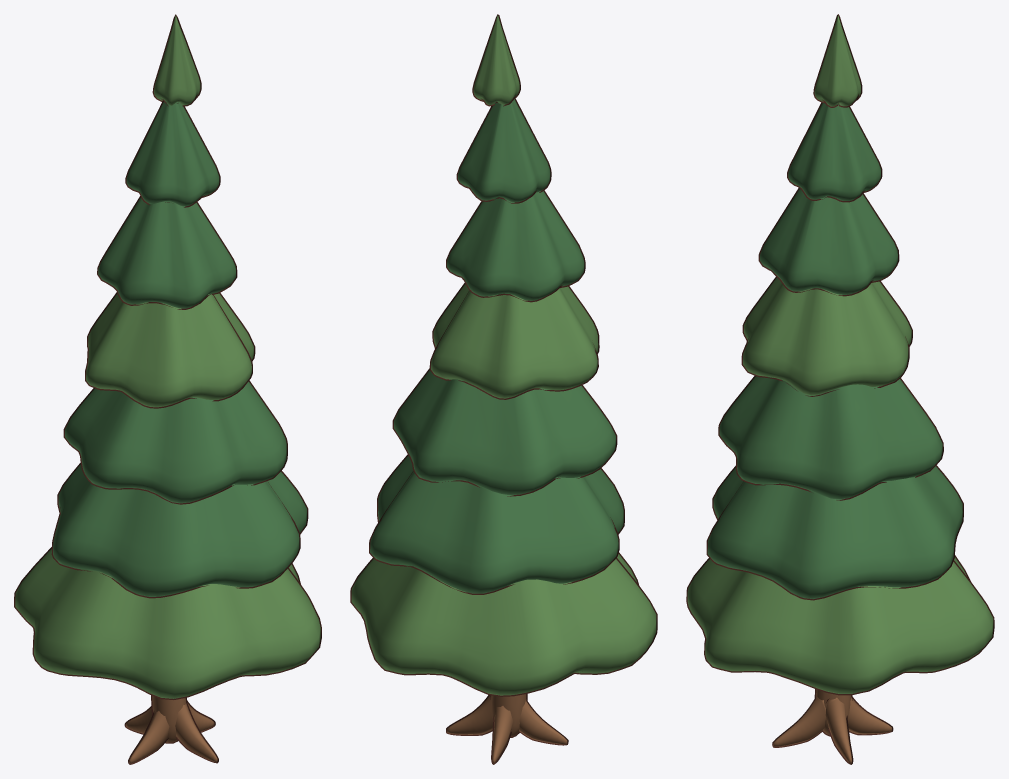
Rendered from fichte.glb.
The picture shows the model from 3 angles, left to right: view 1: azimuth 30°, elevation 25°; view 2: azimuth 150°, elevation 25°; view 3: azimuth 270°, elevation 25°; orthographic projection.
Parts seen in each view (by area): view 1: Needle_Whorl_2_Mesh.002, Needle_Whorl_1_Mesh.002, Trunk_Branches.003, Outline_Crown_SummerGreen_1, Outline_Crown_SummerGreen_2, Outline_Trunk_Bark_Warm; view 2: Needle_Whorl_2_Mesh.002, Needle_Whorl_1_Mesh.002, Trunk_Branches.003, Outline_Crown_SummerGreen_1, Outline_Crown_SummerGreen_2, Outline_Trunk_Bark_Warm; view 3: Needle_Whorl_2_Mesh.002, Needle_Whorl_1_Mesh.002, Trunk_Branches.003, Outline_Crown_SummerGreen_1, Outline_Crown_SummerGreen_2, Outline_Trunk_Bark_Warm.
Boxes of the visible parts, x1,y1,x2,y2 form: Needle_Whorl_2_Mesh.002: (53, 101, 306, 596); Needle_Whorl_1_Mesh.002: (15, 16, 320, 698); Trunk_Branches.003: (126, 696, 217, 763); Outline_Crown_SummerGreen_1: (51, 99, 308, 598); Outline_Crown_SummerGreen_2: (14, 14, 321, 699); Outline_Trunk_Bark_Warm: (124, 695, 218, 764); Needle_Whorl_2_Mesh.002: (370, 99, 623, 593); Needle_Whorl_1_Mesh.002: (351, 15, 656, 695); Trunk_Branches.003: (447, 694, 567, 763); Outline_Crown_SummerGreen_1: (369, 97, 624, 594); Outline_Crown_SummerGreen_2: (350, 14, 657, 696); Outline_Trunk_Bark_Warm: (446, 694, 568, 764); Needle_Whorl_2_Mesh.002: (707, 103, 962, 599); Needle_Whorl_1_Mesh.002: (687, 15, 993, 693); Trunk_Branches.003: (773, 689, 891, 763); Outline_Crown_SummerGreen_1: (706, 102, 963, 600); Outline_Crown_SummerGreen_2: (686, 14, 994, 695); Outline_Trunk_Bark_Warm: (772, 689, 893, 764).
Bounding box in the file's own units: 3.15 × 8.03 × 3.07.
